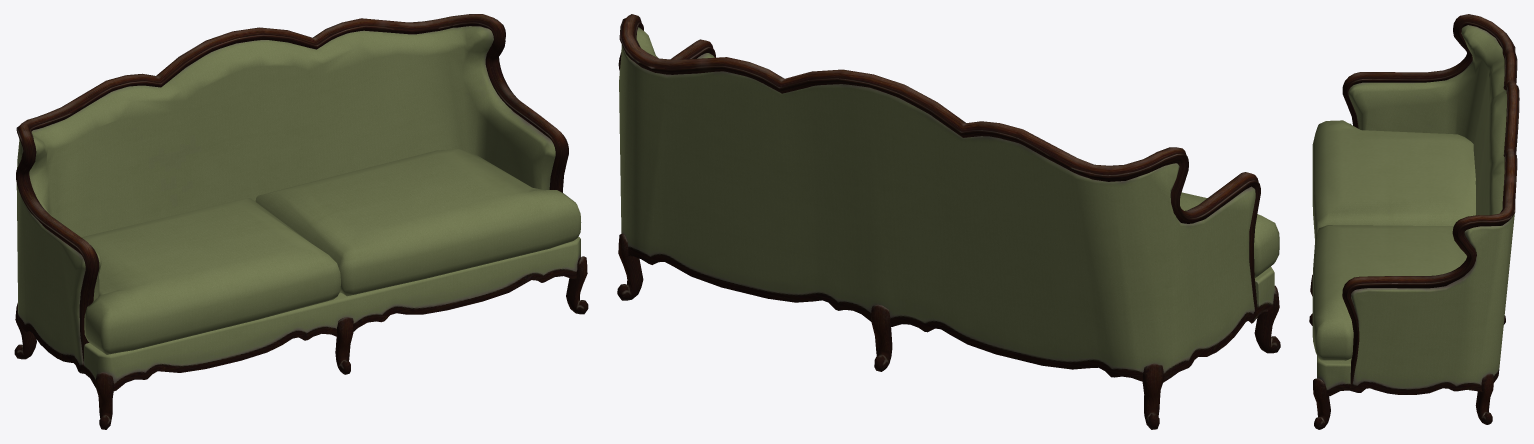
Rendered from linden_moss-boucle.glb.
3 views of the same model, side by side, from view 1: azimuth 30°, elevation 25°; view 2: azimuth 150°, elevation 25°; view 3: azimuth 270°, elevation 25° (orthographic). The views are drawn at different scales.
Visible parts, largest first — view 1: Sofa_01; view 2: Sofa_01; view 3: Sofa_01.
Part boxes in pixels (x1,y1,x2,y2): Sofa_01: [14, 14, 588, 429]; Sofa_01: [617, 14, 1280, 429]; Sofa_01: [1309, 14, 1519, 429].
Bounding box in the file's own units: 1.57 × 0.7965 × 0.658.
1 material, 1 textured.
